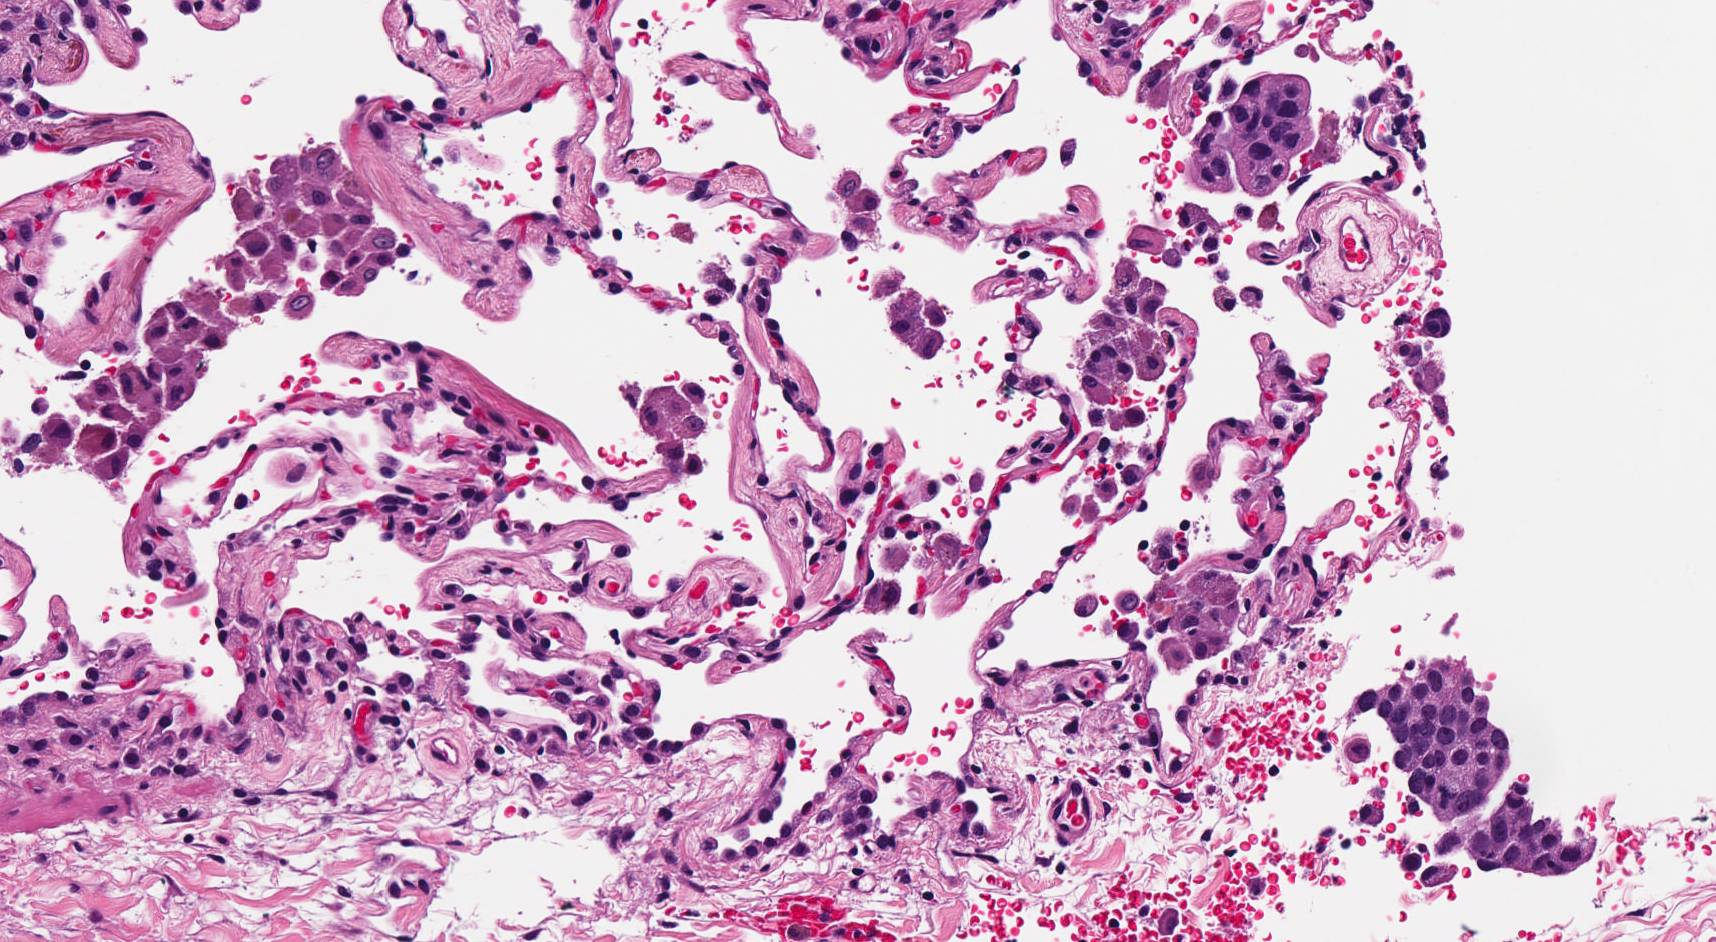stas: (1357, 656, 1597, 878), (1188, 73, 1312, 195)
